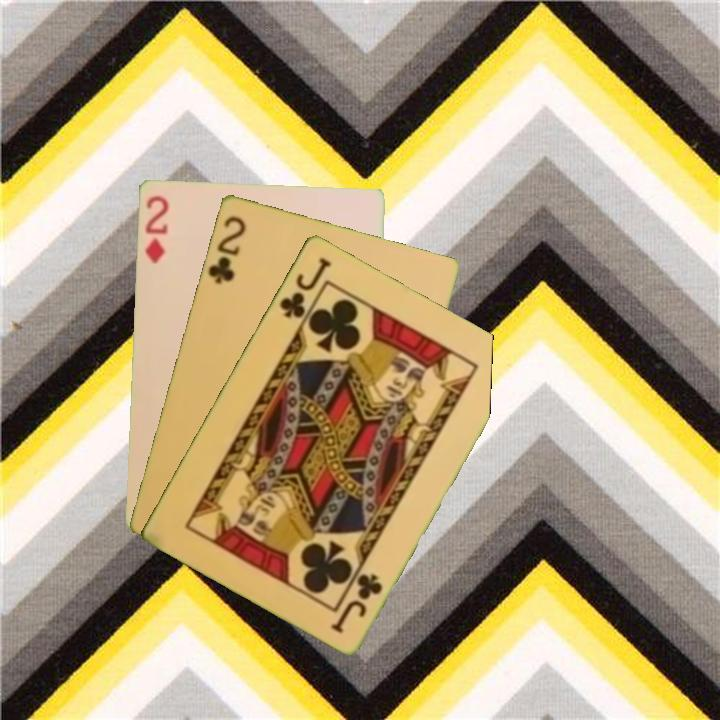2c: (204, 212, 249, 287)
2d: (140, 191, 171, 266)
Jc: (275, 253, 334, 321), (327, 569, 386, 636)
